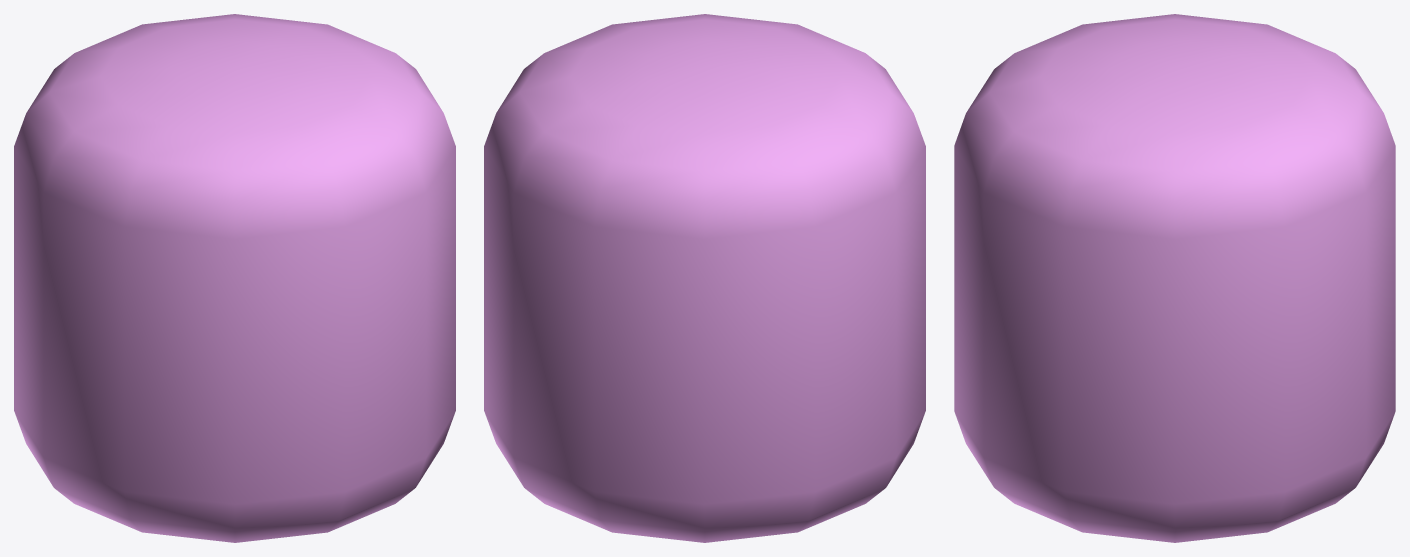
The model's file is Orchid_Analytical_0.obj.
3 views of the same model, side by side, from view 1: azimuth 30°, elevation 25°; view 2: azimuth 150°, elevation 25°; view 3: azimuth 270°, elevation 25° (orthographic).
Visible parts, largest first — view 1: AnalyticalCrown; view 2: AnalyticalCrown; view 3: AnalyticalCrown.
Boxes of the visible parts, x1,y1,x2,y2 form: AnalyticalCrown: [14, 14, 455, 542]; AnalyticalCrown: [484, 14, 925, 542]; AnalyticalCrown: [954, 14, 1395, 542].
Size of the model in its own units: 0.94 by 1 by 0.94.
